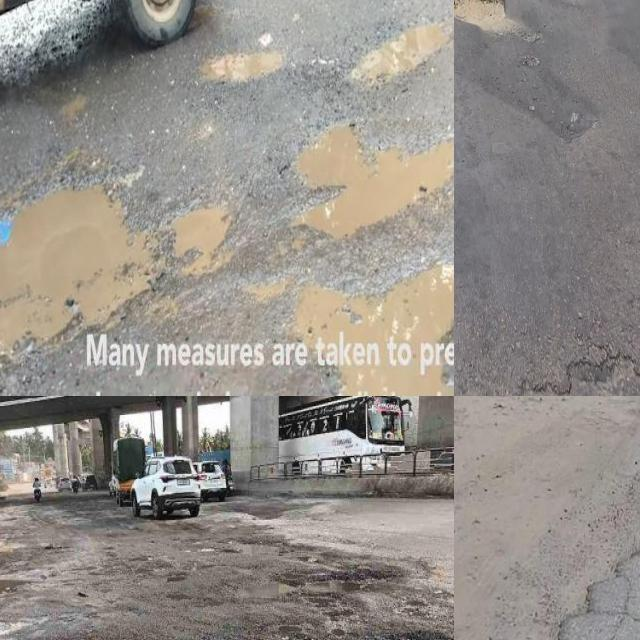Pothole: (0, 192, 147, 371), (285, 266, 454, 396), (287, 120, 454, 244), (349, 23, 453, 94), (351, 24, 450, 84), (461, 597, 583, 640), (172, 207, 231, 274), (201, 50, 284, 81), (454, 0, 507, 35), (244, 280, 288, 301), (61, 93, 87, 123)
